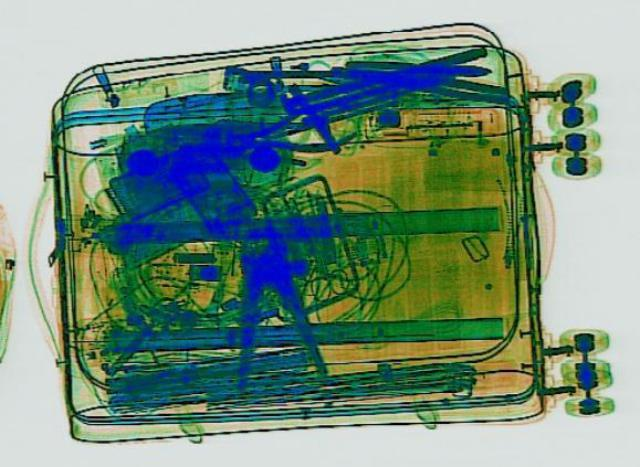Pliers: (208, 228, 328, 391), (206, 96, 358, 166), (340, 53, 508, 102)
